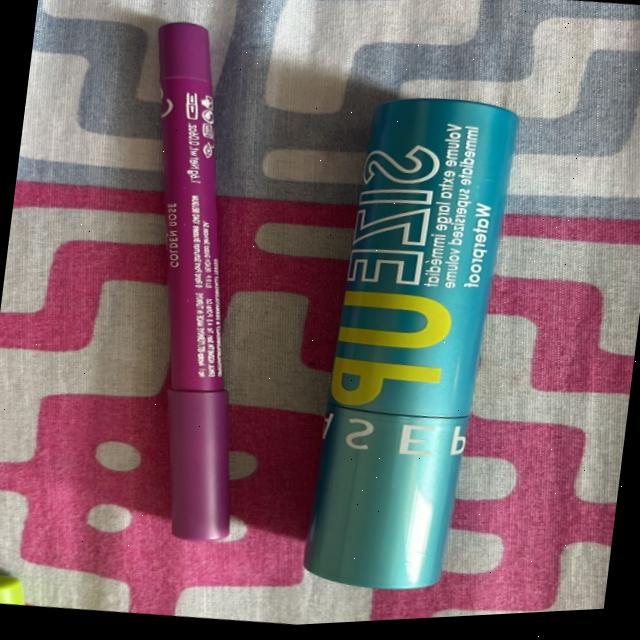eye liner: (43, 0, 327, 572)
mascara: (281, 45, 561, 624)
